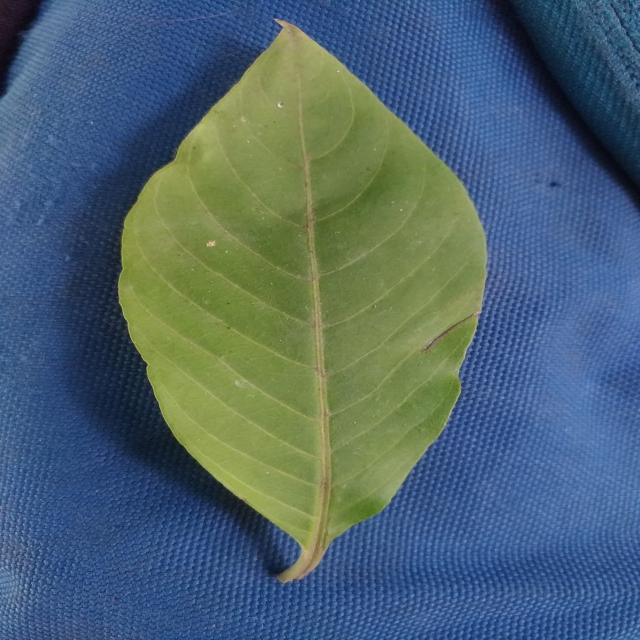malabar_nut: (120, 21, 487, 581), (120, 21, 484, 581)
